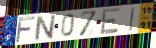0: (60, 13, 76, 38)
7: (79, 9, 98, 38)
E: (100, 7, 121, 36)
F: (14, 16, 36, 45)
I: (128, 7, 136, 33)
N: (34, 14, 56, 42)
